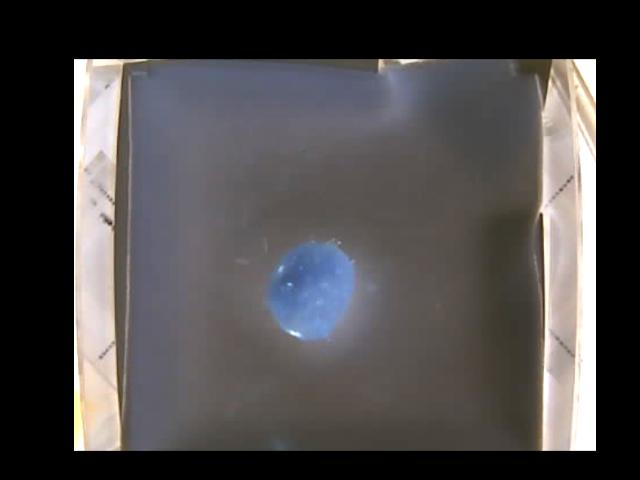Potato: (268, 236, 354, 337)
